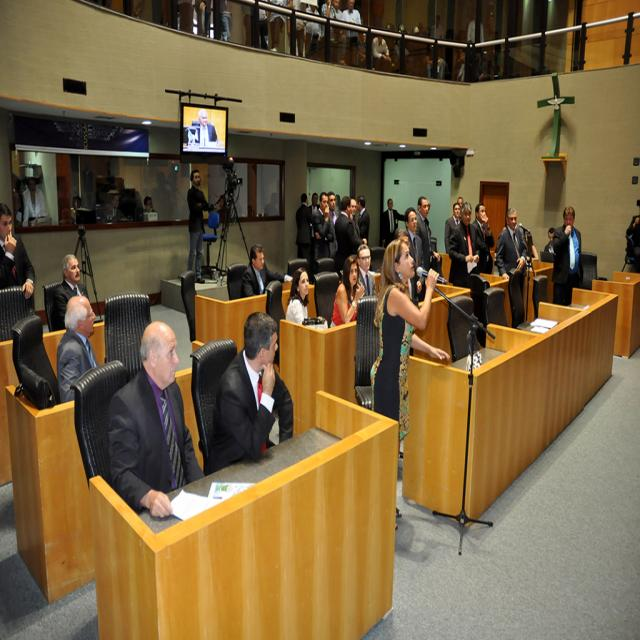chair: (71, 359, 130, 486), (190, 336, 237, 472), (11, 311, 61, 407), (194, 292, 267, 354), (104, 292, 151, 378), (314, 272, 340, 321)
desk: (89, 391, 399, 640)
person: (371, 233, 446, 525), (108, 319, 203, 517), (208, 311, 293, 473), (0, 202, 36, 338), (57, 294, 99, 403), (495, 206, 531, 329), (43, 252, 91, 332), (548, 203, 583, 301), (186, 169, 210, 280), (332, 256, 364, 324), (287, 268, 315, 323)
tv: (181, 105, 228, 157)
